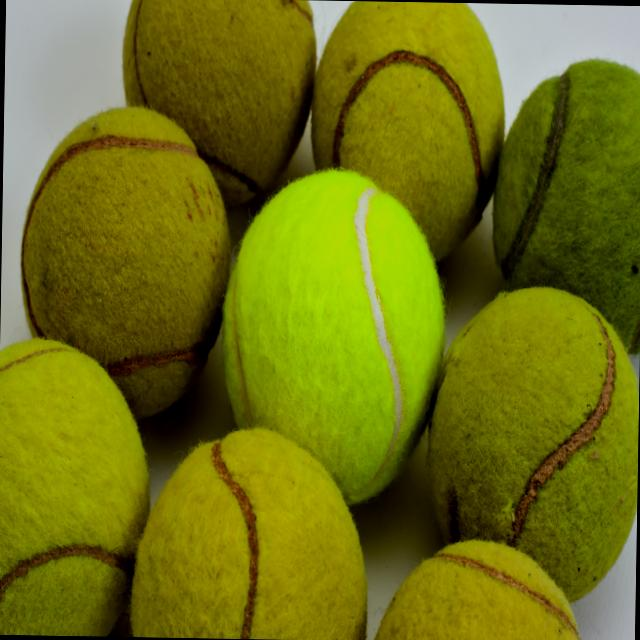Tennis Ball: (0, 0, 640, 640), (220, 163, 448, 509)
